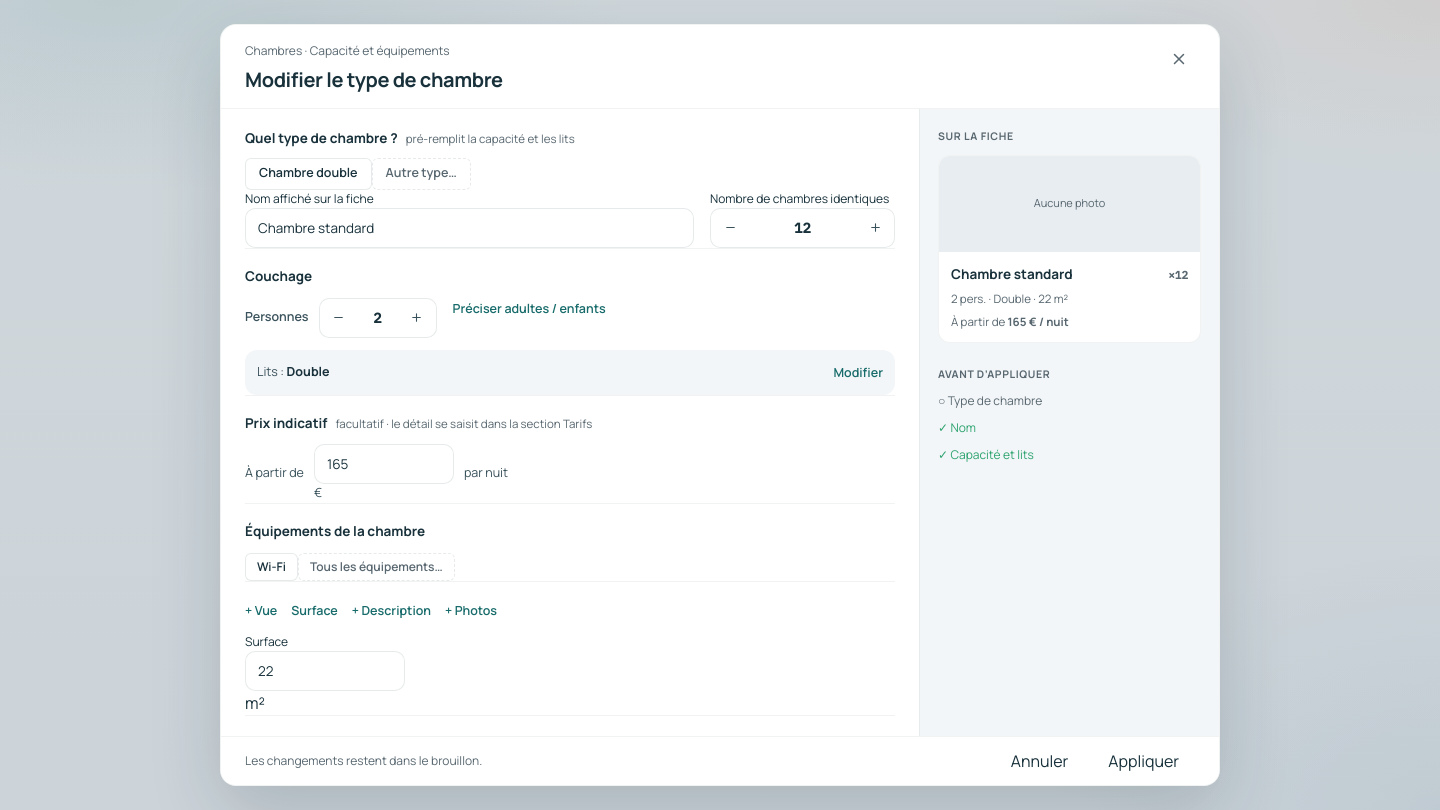
Test: RoomEditModal › search reveals a category amenity without manually expanding
Expected: the button "Conciergerie" is not shown
Click the button "Tous les équipements…" at (376, 567), box [298,553,455,581]
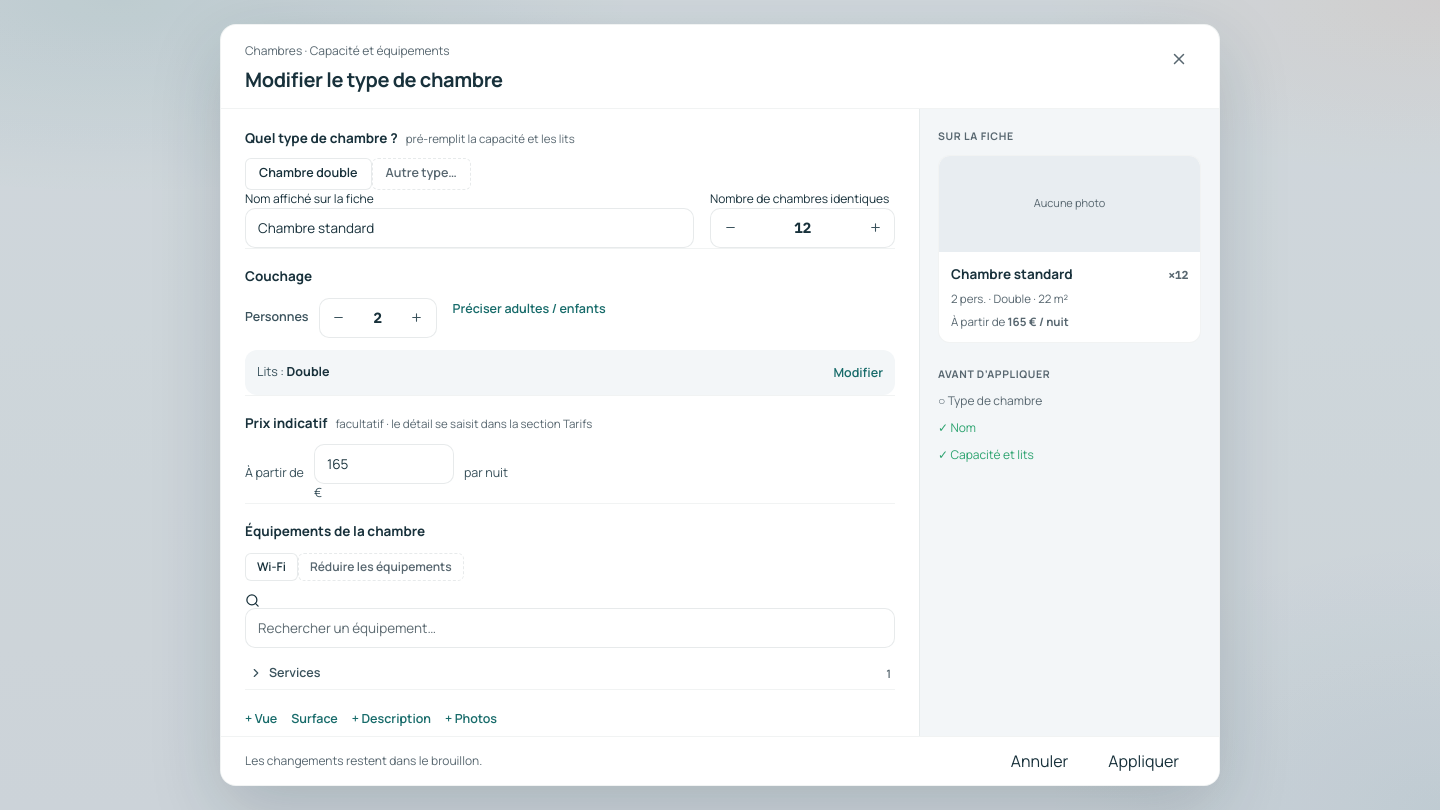
Type "Conci" into the field labelled "Rechercher un équipement" at (570, 628), box [245,608,895,648]
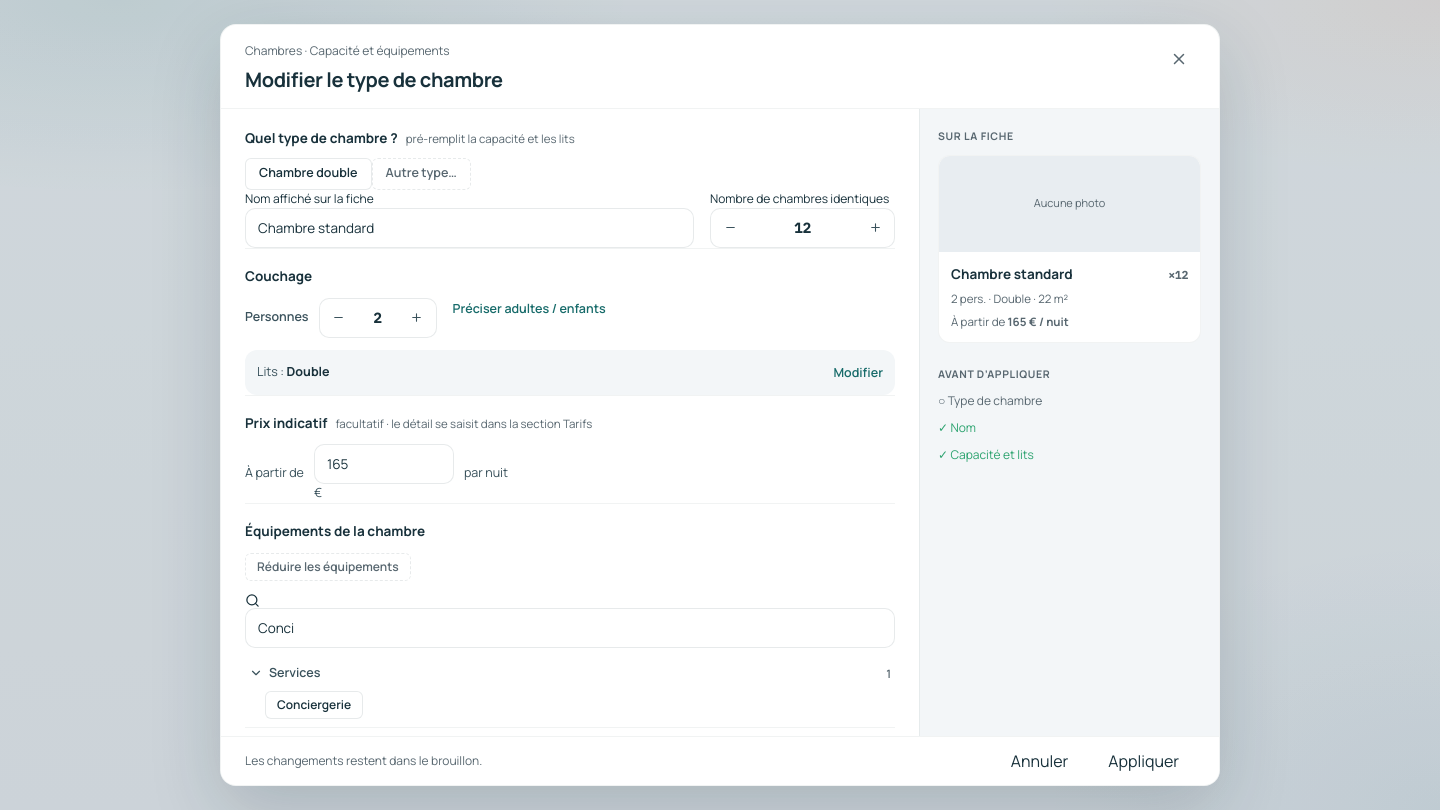
Expected: the button "Conciergerie" is shown, [265,691,363,719]
Replace the text in the field named "Rechercher un équipement" with "zzz" at (570, 628), box [245,608,895,648]
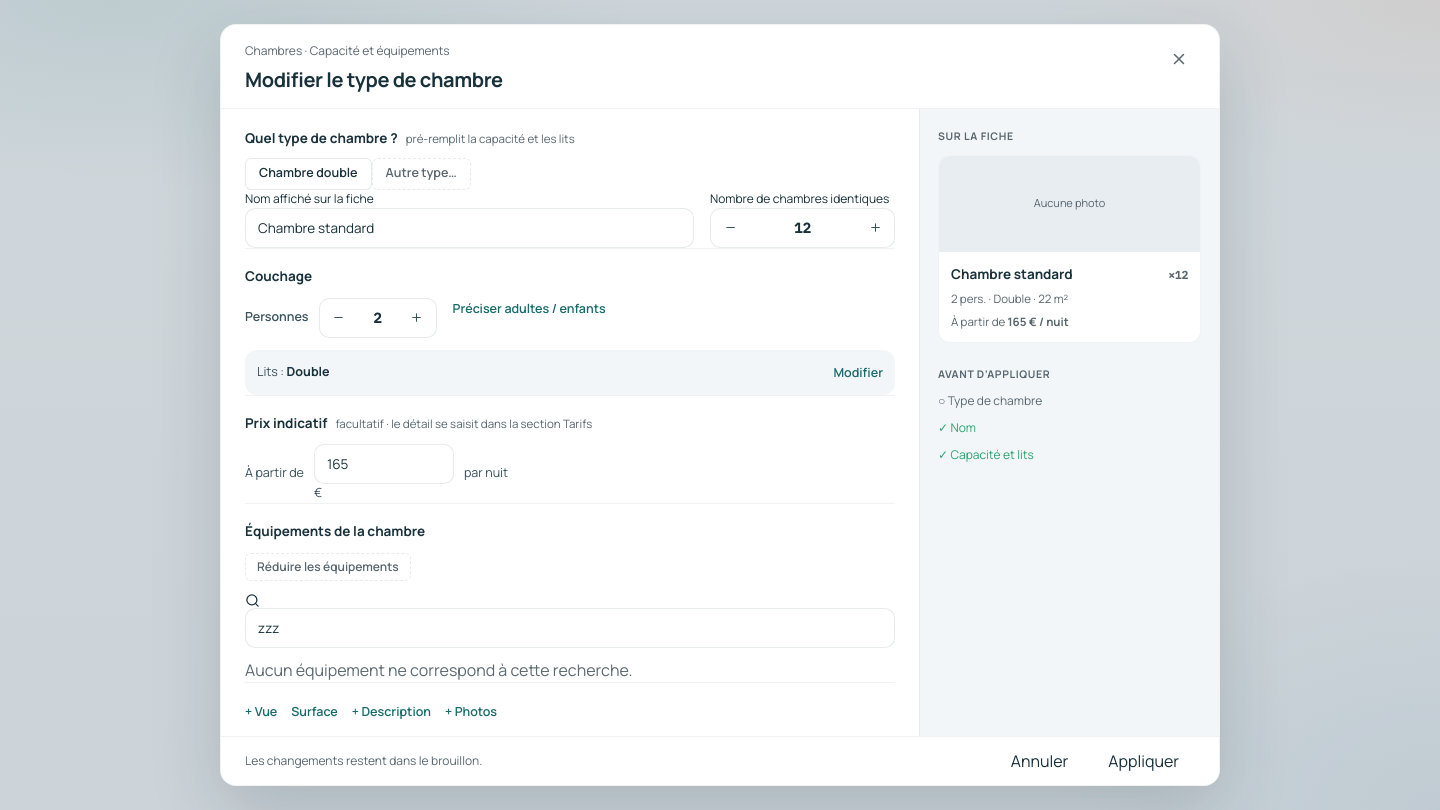
Expected: the button "Conciergerie" is gone
